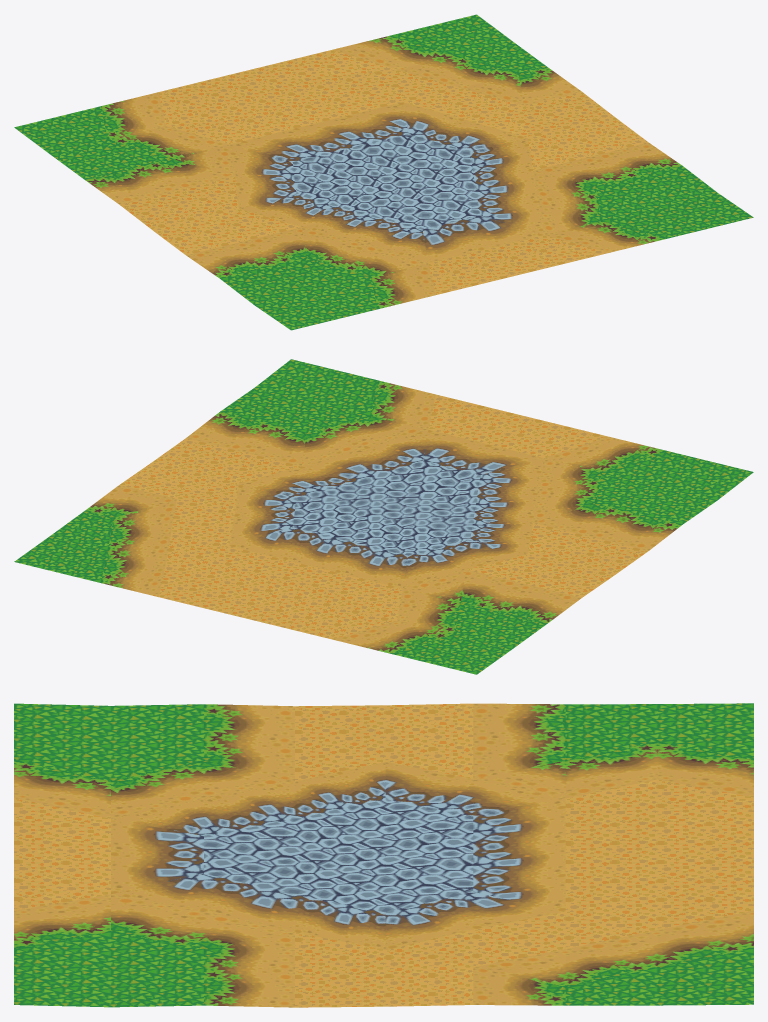
File: c_grd_f_h_1.001.glb
3 renders of one model, top to bottom at view 1: azimuth 30°, elevation 25°; view 2: azimuth 150°, elevation 25°; view 3: azimuth 270°, elevation 25°, orthographic. The views are drawn at different scales.
Parts seen in each view (by area): view 1: c_grd_f_h_1.001; view 2: c_grd_f_h_1.001; view 3: c_grd_f_h_1.001.
Boxes of the visible parts, bbox=[...] form: c_grd_f_h_1.001: bbox=[14, 14, 753, 330]; c_grd_f_h_1.001: bbox=[14, 359, 753, 674]; c_grd_f_h_1.001: bbox=[14, 703, 753, 1007].
Size of the model in its own units: 32 by 0.1406 by 33.2.
5 materials, 5 textured.
